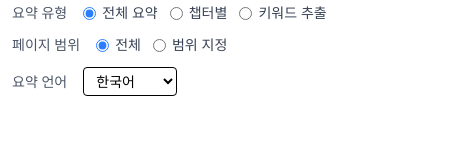
Test: SummaryTypeSelector › "범위 지정" 선택 → summaryPageRange={1,pageCount} + 입력 표시
This screenshot has width=457, height=160.
Click the radio button labelled "범위 지정": (159, 45) [153, 38, 166, 52]
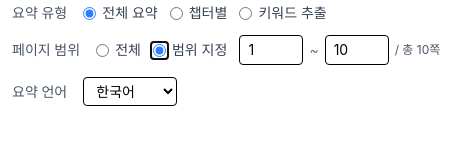
Now the number field named "시작 페이지" is shown, box [239, 35, 303, 65]
